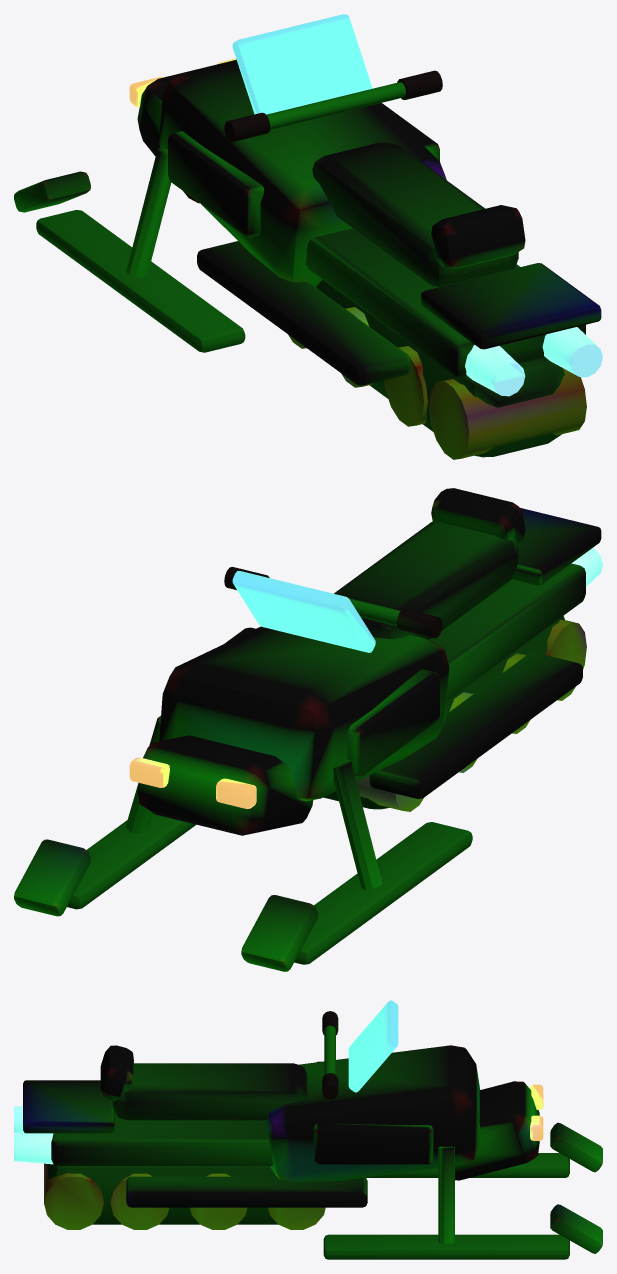
Rendered from hero_snowmobile.glb.
3 renders of one model, top to bottom at view 1: azimuth 30°, elevation 25°; view 2: azimuth 150°, elevation 25°; view 3: azimuth 270°, elevation 25°, orthographic. The views are drawn at different scales.
Visible parts, largest first — view 1: HeroSnowmobile; view 2: HeroSnowmobile; view 3: HeroSnowmobile.
Part boxes in pixels (<box>): HeroSnowmobile: <box>14,14,602,459</box>; HeroSnowmobile: <box>14,488,602,971</box>; HeroSnowmobile: <box>14,1000,602,1259</box>.
Size of the model in its own units: 1.4 by 1.29 by 3.54.
